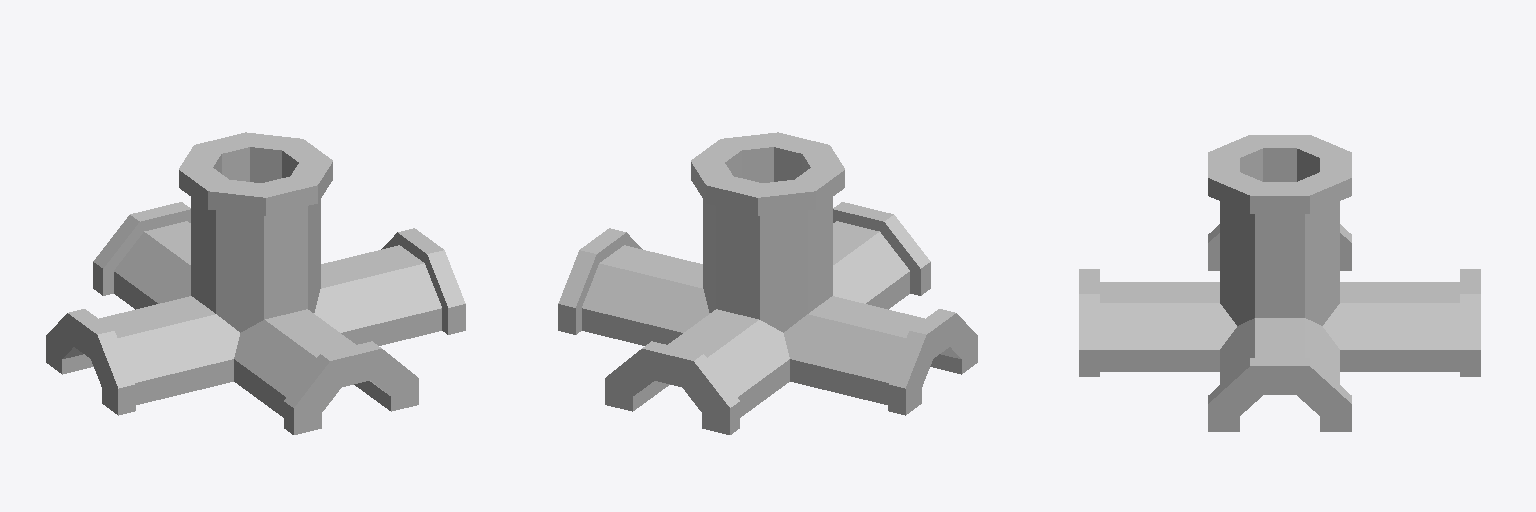
The model's file is Drain Pipe - Cross.obj.
3 renders of one model, left to right at view 1: azimuth 30°, elevation 25°; view 2: azimuth 150°, elevation 25°; view 3: azimuth 270°, elevation 25°, orthographic.
Visible parts, largest first — view 1: Drain_Pipe_-_Cross; view 2: Drain_Pipe_-_Cross; view 3: Drain_Pipe_-_Cross.
Part boxes in pixels (bbox=[...]): Drain_Pipe_-_Cross: bbox=[46, 132, 465, 434]; Drain_Pipe_-_Cross: bbox=[558, 132, 977, 434]; Drain_Pipe_-_Cross: bbox=[1079, 135, 1480, 431].
Size of the model in its own units: 1 by 0.5 by 1.